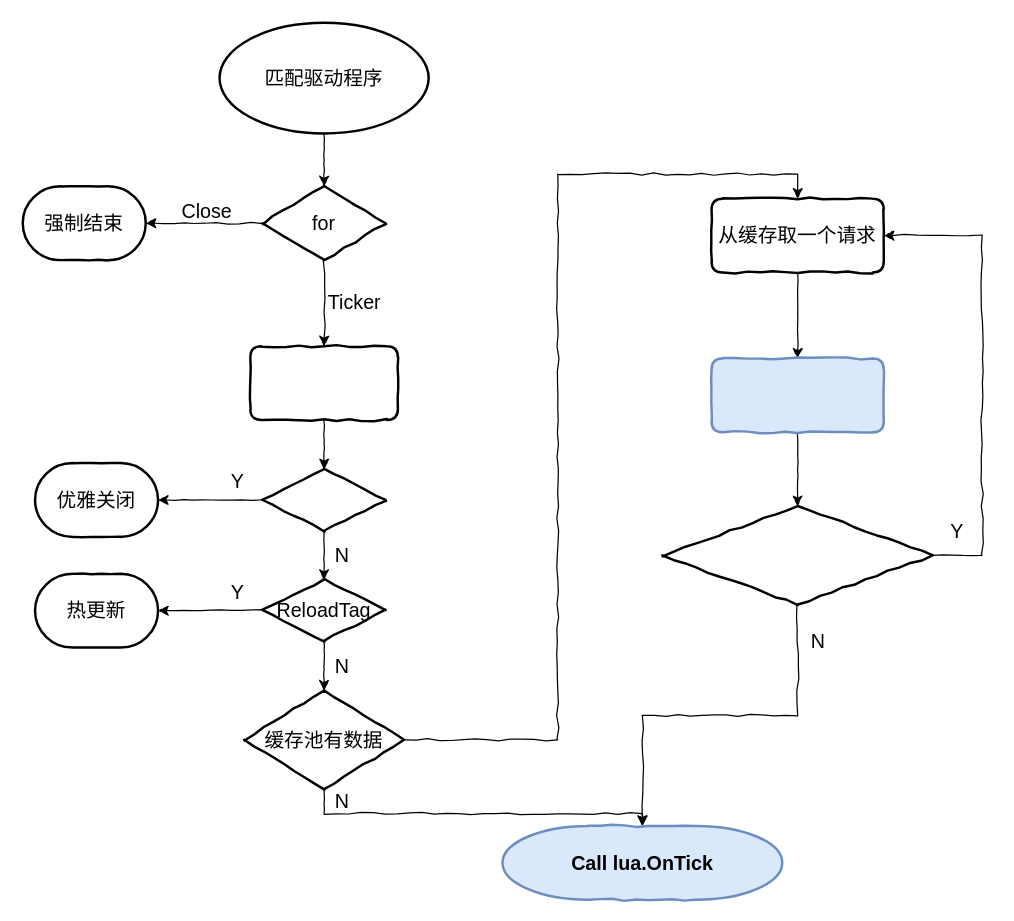
Image size: 1014x921. Some labels were removed from this diagram. Here are the shapes that lost their labels. From the top down, the centre of each, then its label:
At (x=323, y=382): "OneTick".
At (x=797, y=395): "Call lua.AddGroup lua.DelGroup".
At (x=323, y=499): "CloseTag".
At (x=797, y=554): "缓存池有数据&& 没有超过间隔时长".
